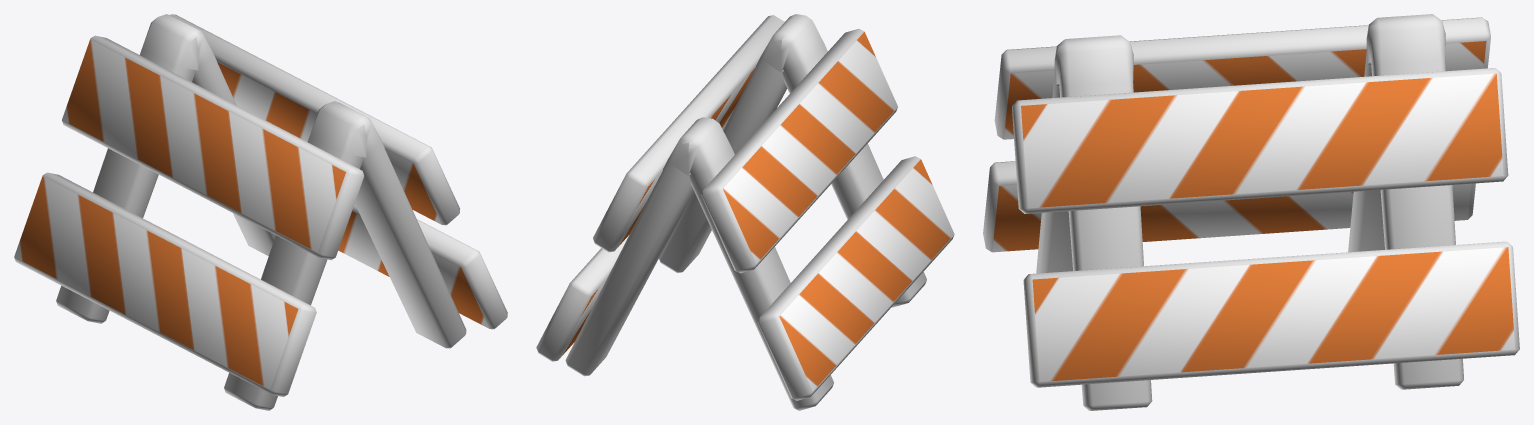
The model's file is barriers.fbx.
3 views of the same model, side by side, from view 1: azimuth 30°, elevation 25°; view 2: azimuth 150°, elevation 25°; view 3: azimuth 270°, elevation 25° (orthographic). The views are drawn at different scales.
Parts seen in each view (by area): view 1: barriers1.006, barriers1.004, barriers1.002, barriers1.001, barriers1.003, barriers1.005; view 2: barriers1.004, barriers1.006, barriers1.003, barriers1.002, barriers1.001, barriers1.005; view 3: barriers1.005, barriers1.001, barriers1.006, barriers1.002, barriers1.003, barriers1.004.
Boxes of the visible parts, x1,y1,x2,y2 form: barriers1.006: (62, 35, 364, 260); barriers1.004: (14, 172, 316, 396); barriers1.002: (224, 101, 466, 410); barriers1.001: (170, 14, 459, 225); barriers1.003: (56, 14, 275, 323); barriers1.005: (338, 204, 507, 329); barriers1.004: (757, 156, 954, 400); barriers1.006: (701, 28, 897, 273); barriers1.003: (565, 117, 833, 410); barriers1.002: (659, 14, 926, 307); barriers1.001: (593, 15, 784, 252); barriers1.005: (536, 235, 628, 361); barriers1.005: (1023, 241, 1519, 387); barriers1.001: (1012, 68, 1508, 213); barriers1.006: (994, 17, 1490, 139); barriers1.002: (1036, 35, 1152, 410); barriers1.003: (1348, 14, 1463, 389); barriers1.004: (983, 161, 1475, 252).
Bounding box in the file's own units: 1.78 × 1.43 × 1.14.
